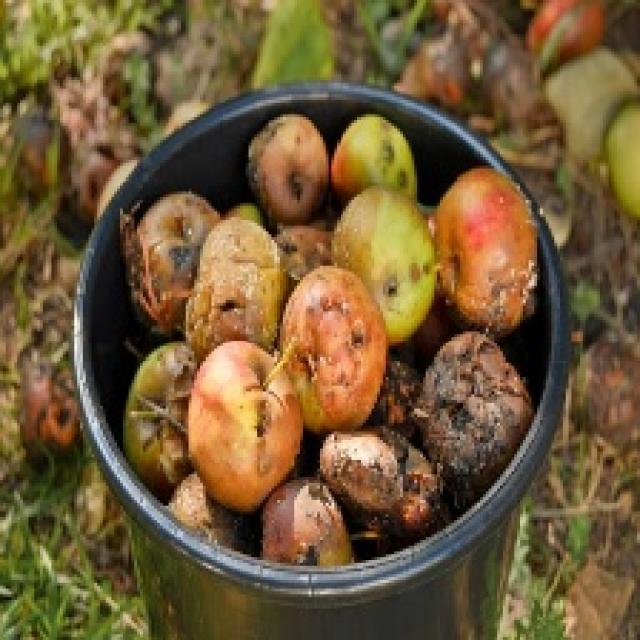rotten_apple: (437, 174, 539, 318), (198, 344, 291, 498), (424, 331, 522, 466), (292, 273, 385, 415), (335, 194, 435, 303), (250, 118, 328, 218), (261, 480, 351, 562), (141, 193, 201, 314)
